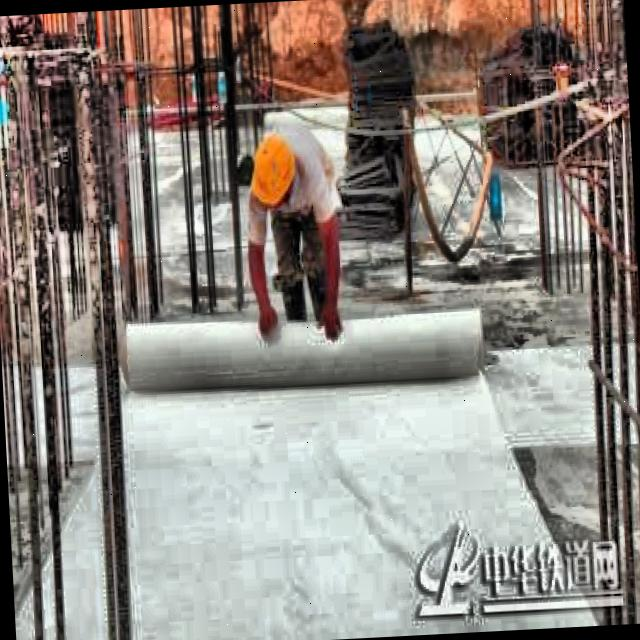helmet: (245, 120, 308, 227)
